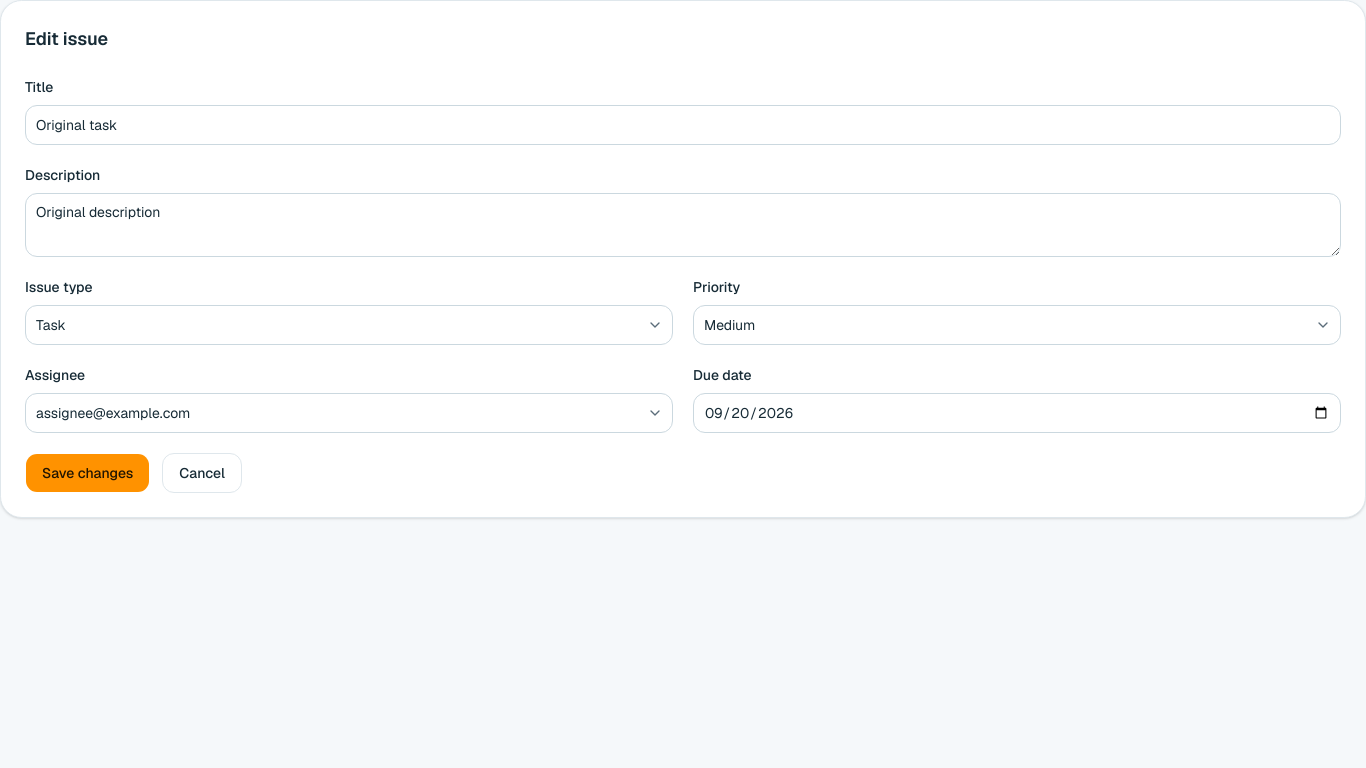
Scenario: EditTaskForm › validates an empty title
The image size is (1366, 768).
Step 1. Clear the field labelled "Title" → (683, 125), box [25,105,1341,145]
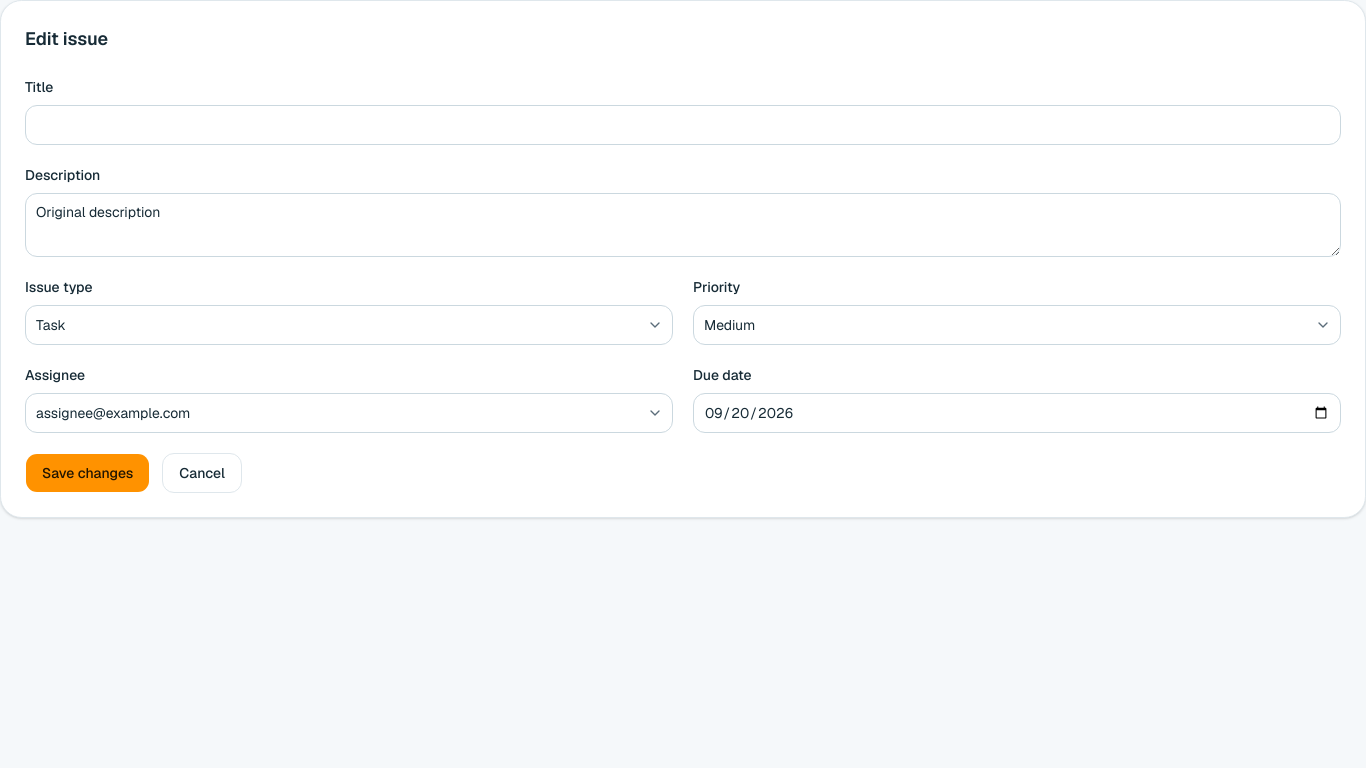
Step 2. Click the button "Save changes" → (88, 473), box [25,453,150,493]
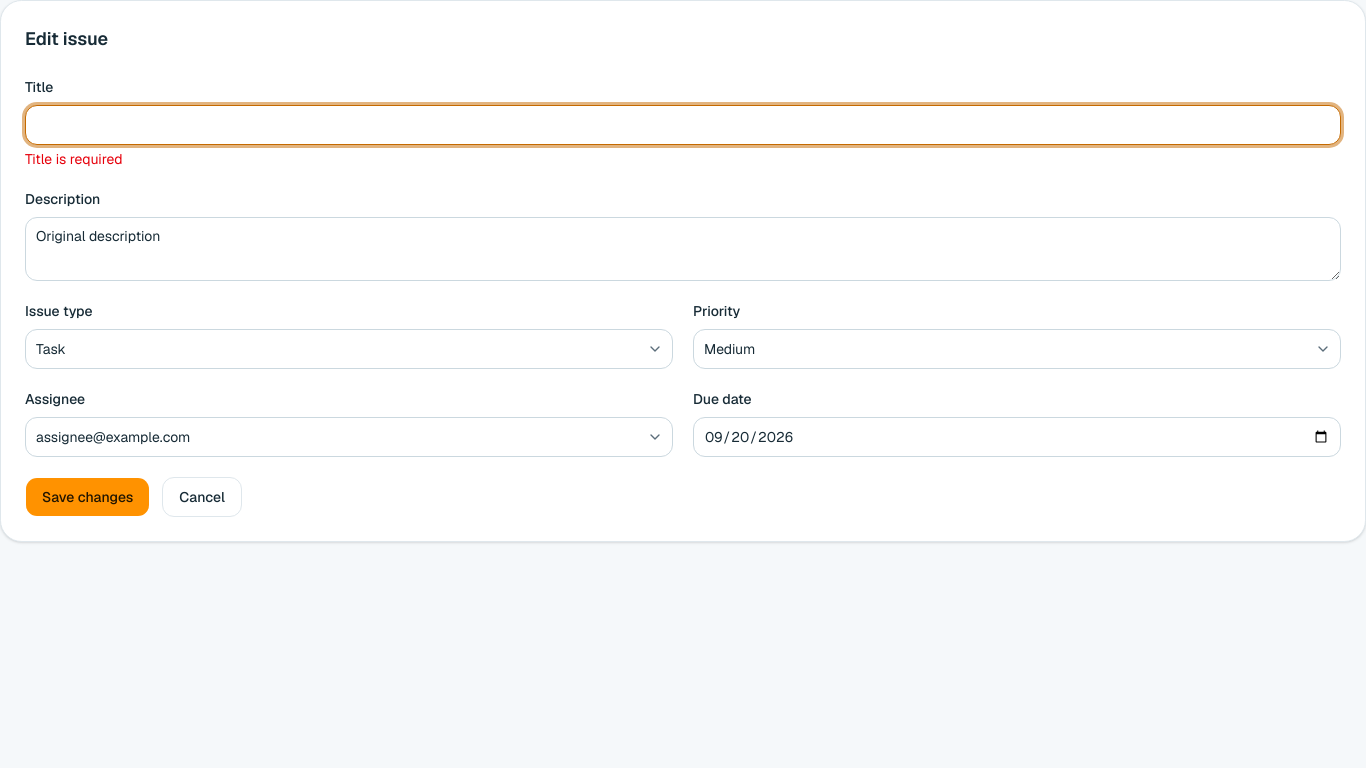
Now the text "Title is required" is shown, box [25,150,123,168]
